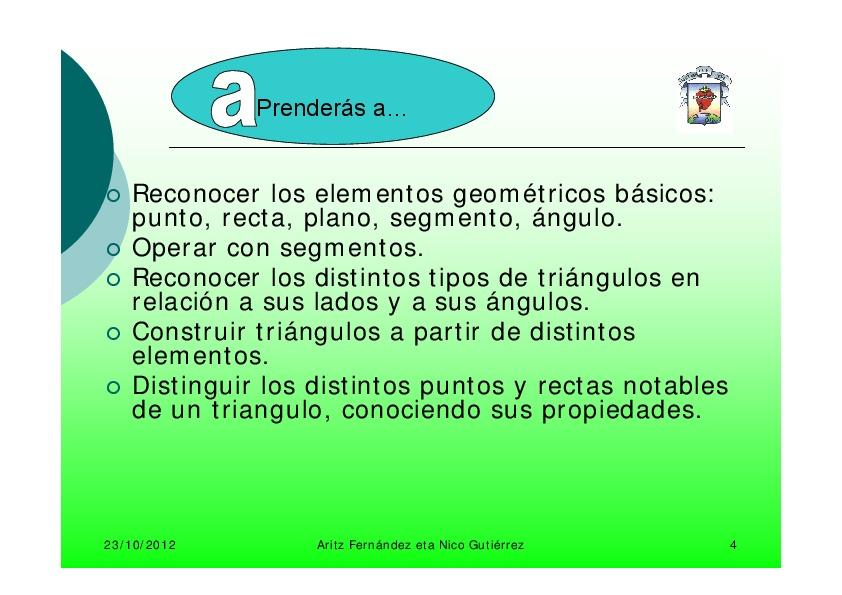paragraph: (99, 169, 764, 450)
title: (207, 64, 418, 143)
